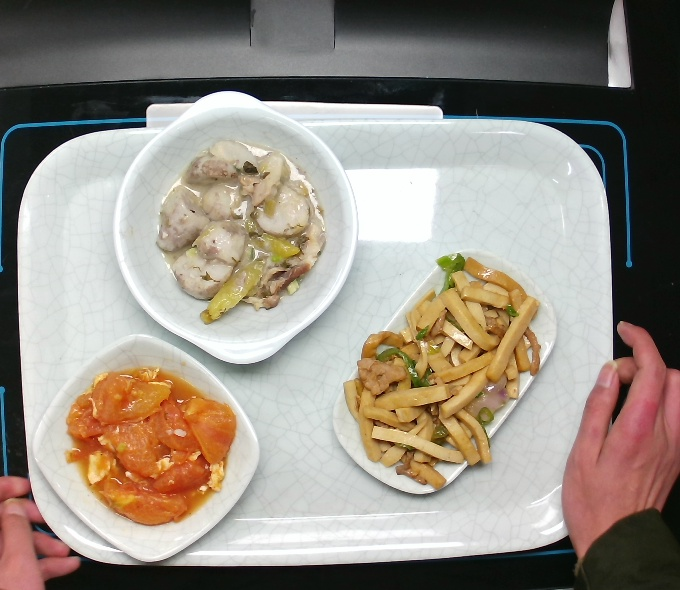wcq-FanQieChaoDan: (64, 357, 237, 532)
wcq-QianYeDouFu: (343, 245, 548, 495)
wcq-YangYu: (150, 133, 340, 320)
